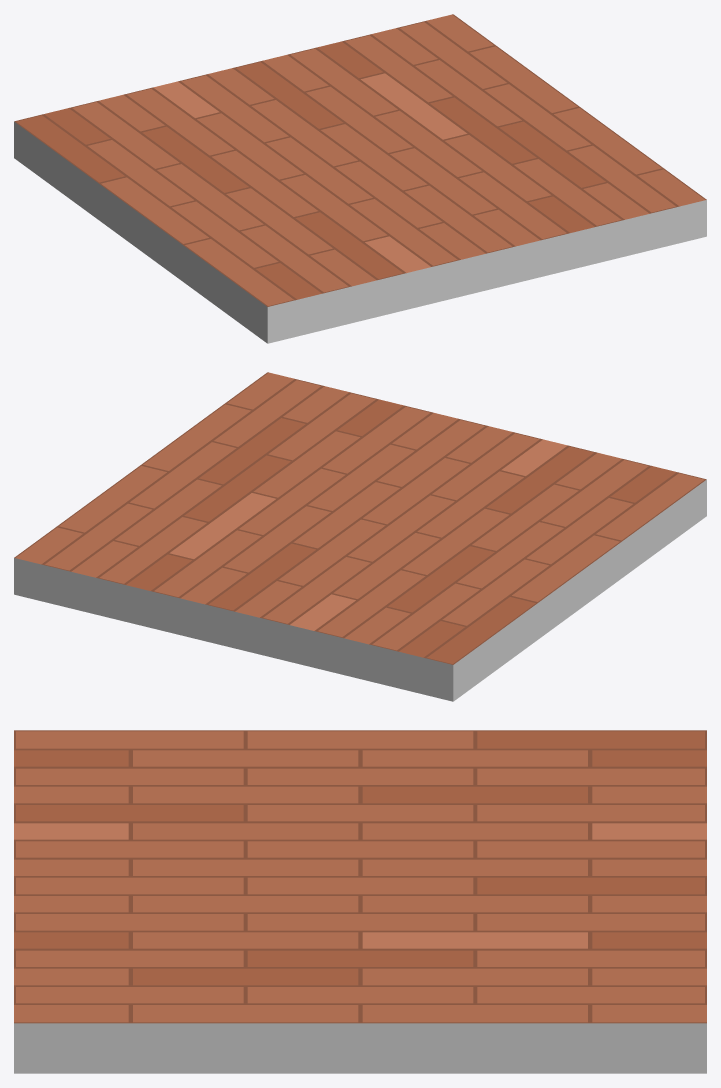
File: Floor10_01.fbx
3 views of the same model, one above another, from view 1: azimuth 30°, elevation 25°; view 2: azimuth 150°, elevation 25°; view 3: azimuth 270°, elevation 25° (orthographic). The views are drawn at different scales.
Parts seen in each view (by area): view 1: Floor10_01; view 2: Floor10_01; view 3: Floor10_01.
Part boxes in pixels (bbox=[...]): Floor10_01: bbox=[14, 14, 706, 343]; Floor10_01: bbox=[14, 372, 706, 701]; Floor10_01: bbox=[14, 730, 706, 1073].
Size of the model in its own units: 250 by 20 by 250.
